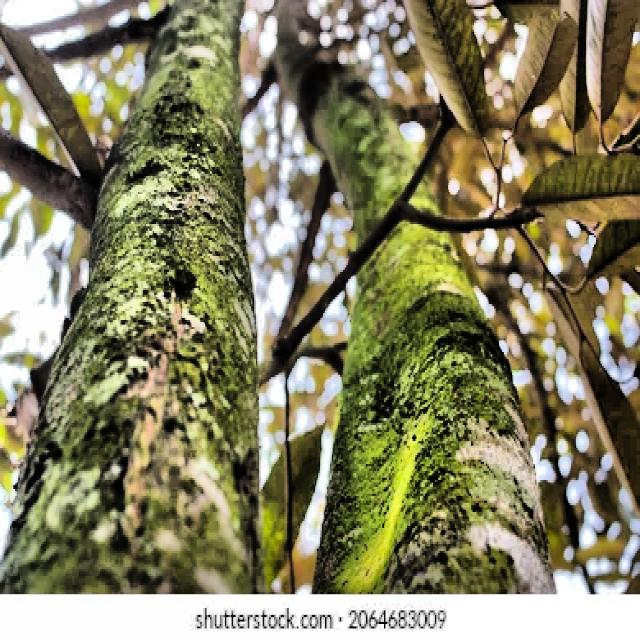arvore: (0, 0, 272, 595)
